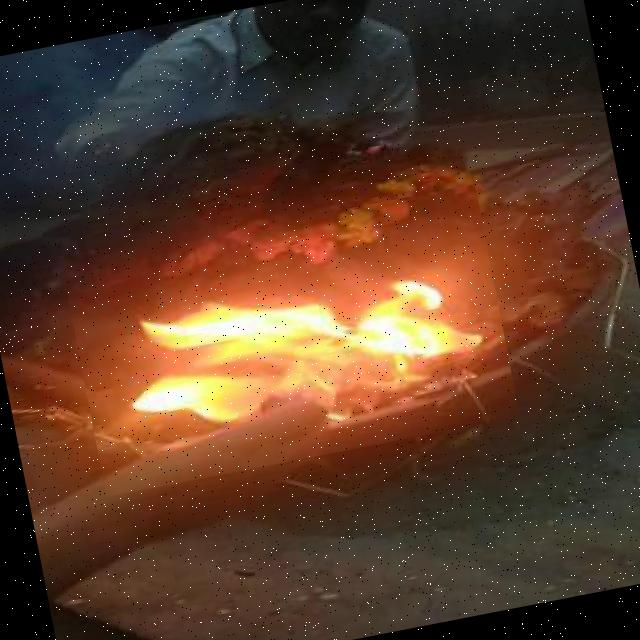fire: (62, 184, 520, 497)
